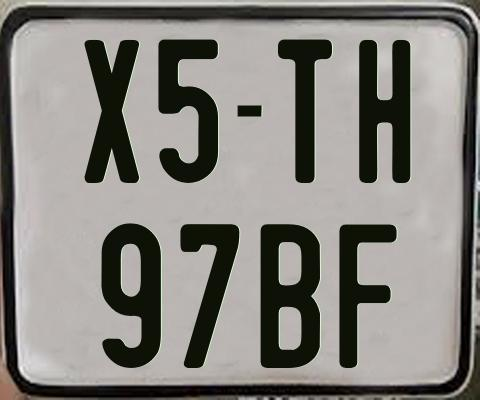5: (158, 37, 224, 187)
7: (179, 223, 240, 369)
9: (100, 222, 166, 369)
B: (259, 222, 323, 367)
F: (336, 223, 399, 373)
H: (357, 39, 411, 184)
T: (278, 37, 332, 187)
X: (82, 37, 137, 180)
